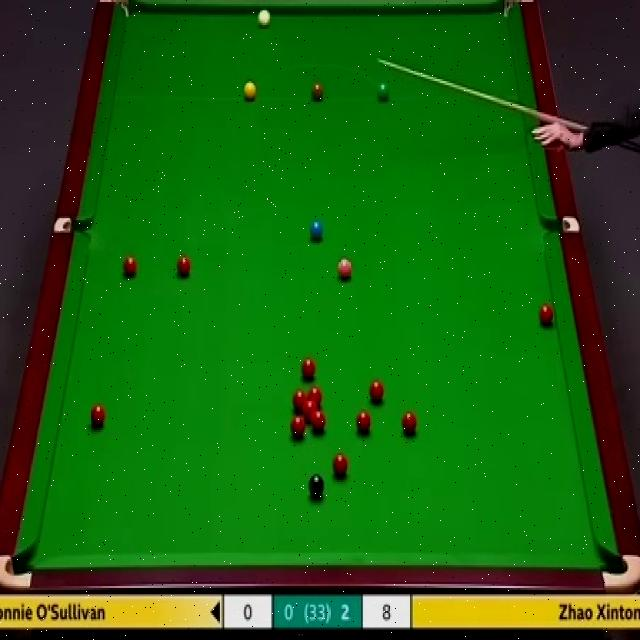black-ball: (308, 471, 326, 500)
blue-ball: (308, 219, 324, 243)
brown-ball: (311, 81, 324, 101)
green-ball: (376, 80, 389, 102)
pink-ball: (334, 258, 355, 286)
red-ball: (538, 302, 556, 331), (331, 451, 350, 478), (88, 403, 106, 428), (368, 378, 385, 404), (401, 412, 418, 437), (355, 410, 371, 436), (122, 254, 138, 280), (175, 256, 193, 279), (301, 358, 317, 381), (310, 412, 326, 434), (292, 392, 308, 413), (290, 416, 305, 438), (307, 386, 323, 406), (303, 401, 317, 419)
white-ball: (255, 6, 273, 30)
yellow-ball: (244, 82, 256, 102)
